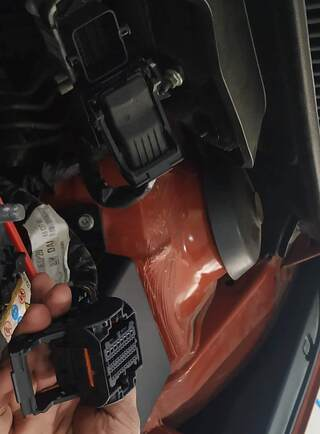connector: (48, 299, 144, 408)
